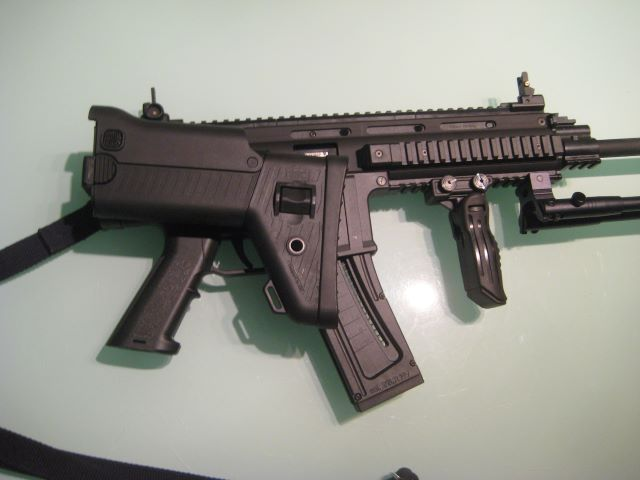rifle: (80, 75, 635, 413)
